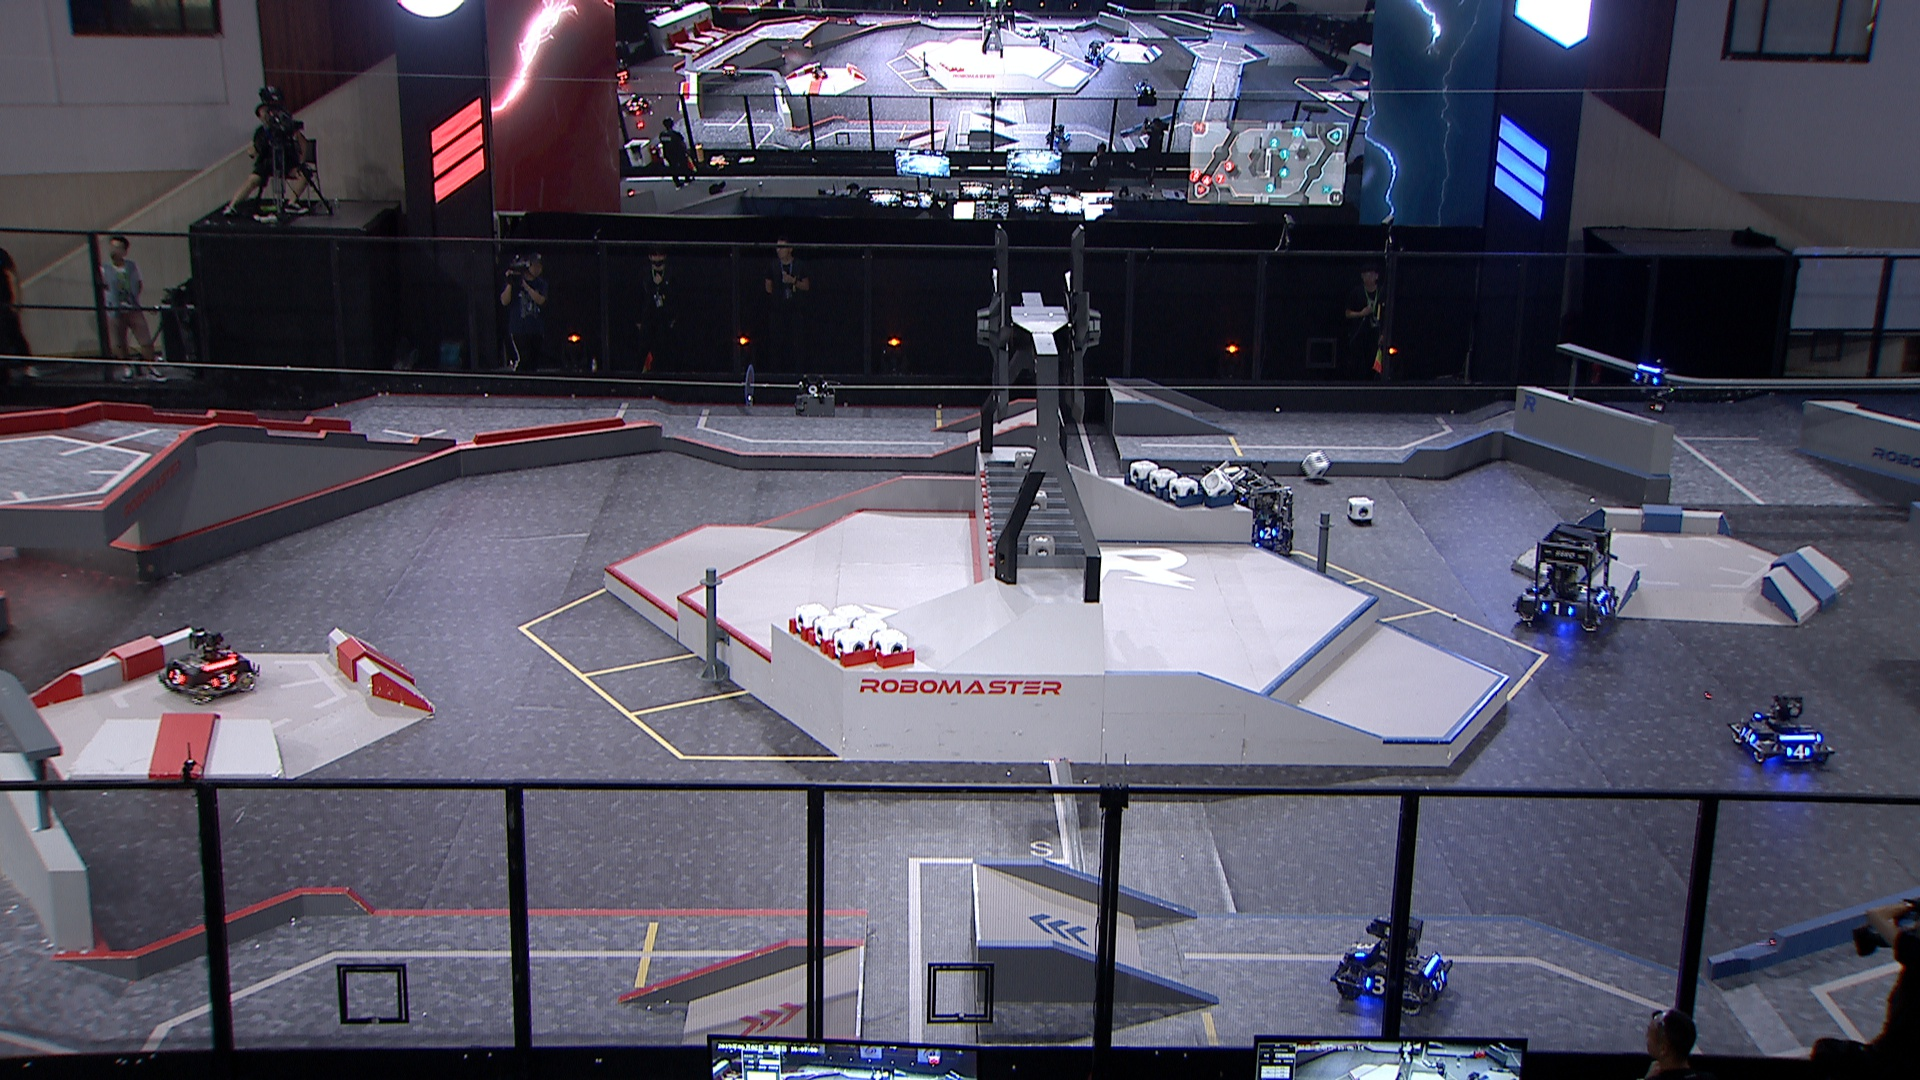armor: (1538, 600, 1575, 617), (1364, 972, 1389, 996), (210, 671, 237, 690), (1784, 744, 1813, 761), (1353, 940, 1377, 959), (1633, 371, 1659, 386), (164, 666, 185, 684), (1432, 969, 1448, 993), (1738, 725, 1756, 745), (1600, 597, 1615, 616), (1257, 526, 1276, 541), (218, 646, 237, 659)
car: (1331, 913, 1453, 1015), (1514, 524, 1621, 633), (1199, 458, 1295, 556), (154, 626, 262, 703), (1726, 695, 1837, 765)
ignore: (624, 91, 651, 116), (1044, 123, 1073, 146), (1215, 3, 1240, 26), (1083, 40, 1106, 65), (1029, 26, 1050, 49), (1131, 76, 1154, 95), (613, 58, 632, 80), (721, 63, 738, 82), (808, 63, 828, 79)
watcher: (1631, 360, 1673, 414)
